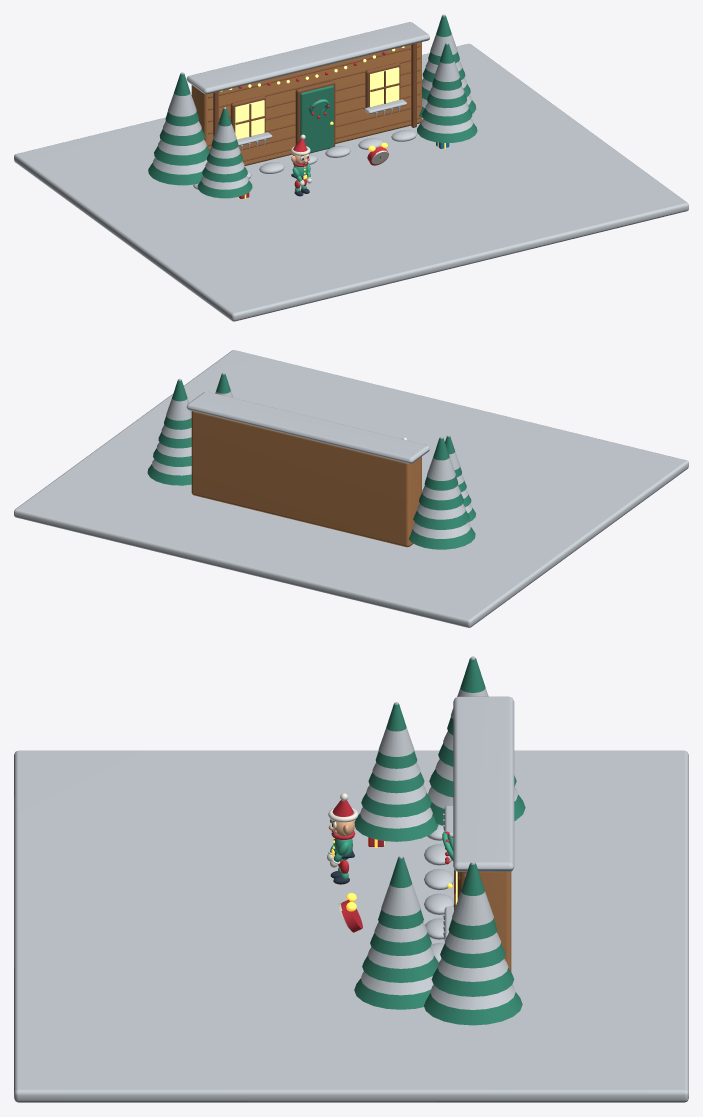
The model's file is chapter-09.glb.
3 renders of one model, top to bottom at view 1: azimuth 30°, elevation 25°; view 2: azimuth 150°, elevation 25°; view 3: azimuth 270°, elevation 25°, orthographic. The views are drawn at different scales.
Visible parts, largest first — view 1: Schneeboden, Werkstatt, Schneegesims, Wichteltür, Warmes Fenster, Warmes Fenster.001, Tannenzweig.004, Tannenzweig.008, Tannenzweig.009, Türrahmen, Tannenzweig.011, Schnee.011 (+7 smaller); view 2: Schneeboden, Werkstatt, Schneegesims, Tannenzweig.008, Tannenzweig.009, Tannenzweig.011, Schnee.008, Schnee.011, Tannenzweig.015, Tannenzweig.012, Tannenzweig.010, Schnee.009 (+1 smaller); view 3: Schneeboden, Schneegesims, Werkstatt, Tannenzweig.012, Tannenzweig.013, Tannenzweig.015, Tannenzweig, Schnee.012, Tannenzweig.005, Tannenzweig.004, Schnee.015, Tannenzweig.007 (+15 smaller).
Part boxes in pixels (x1=…): Schneeboden: x1=14, y1=43, x2=688, y2=321; Werkstatt: x1=191, y1=42, x2=421, y2=165; Schneegesims: x1=186, y1=22, x2=429, y2=94; Wichteltür: x1=300, y1=85, x2=333, y2=153; Warmes Fenster: x1=235, y1=100, x2=264, y2=139; Warmes Fenster.001: x1=370, y1=67, x2=399, y2=106; Tannenzweig.004: x1=417, y1=122, x2=477, y2=142; Tannenzweig.008: x1=148, y1=163, x2=202, y2=185; Tannenzweig.009: x1=154, y1=146, x2=209, y2=165; Türrahmen: x1=295, y1=81, x2=335, y2=146; Tannenzweig.011: x1=165, y1=73, x2=198, y2=126; Schnee.011: x1=168, y1=72, x2=196, y2=116; Schneeboden: x1=14, y1=350, x2=688, y2=627; Werkstatt: x1=191, y1=411, x2=421, y2=547; Schneegesims: x1=186, y1=391, x2=429, y2=463; Tannenzweig.008: x1=408, y1=527, x2=475, y2=549; Tannenzweig.009: x1=413, y1=510, x2=469, y2=529; Tannenzweig.011: x1=424, y1=437, x2=458, y2=490; Schnee.008: x1=412, y1=522, x2=470, y2=538; Schnee.011: x1=427, y1=436, x2=455, y2=480; Tannenzweig.015: x1=164, y1=380, x2=191, y2=429; Tannenzweig.012: x1=147, y1=464, x2=191, y2=485; Tannenzweig.010: x1=419, y1=493, x2=463, y2=510; Schnee.009: x1=417, y1=504, x2=465, y2=519; Schneeboden: x1=14, y1=750, x2=688, y2=1102; Schneegesims: x1=453, y1=696, x2=514, y2=871; Werkstatt: x1=466, y1=871, x2=511, y2=971; Tannenzweig.012: x1=424, y1=992, x2=522, y2=1025; Tannenzweig.013: x1=431, y1=968, x2=514, y2=996; Tannenzweig.015: x1=448, y1=863, x2=497, y2=939; Tannenzweig: x1=354, y1=813, x2=438, y2=841; Schnee.012: x1=430, y1=985, x2=515, y2=1009; Tannenzweig.005: x1=362, y1=955, x2=438, y2=982; Tannenzweig.004: x1=354, y1=978, x2=430, y2=1009; Schnee.015: x1=452, y1=861, x2=493, y2=925; Tannenzweig.007: x1=378, y1=857, x2=423, y2=929.
Bounding box in the file's own units: 18 × 4.39 × 15.
